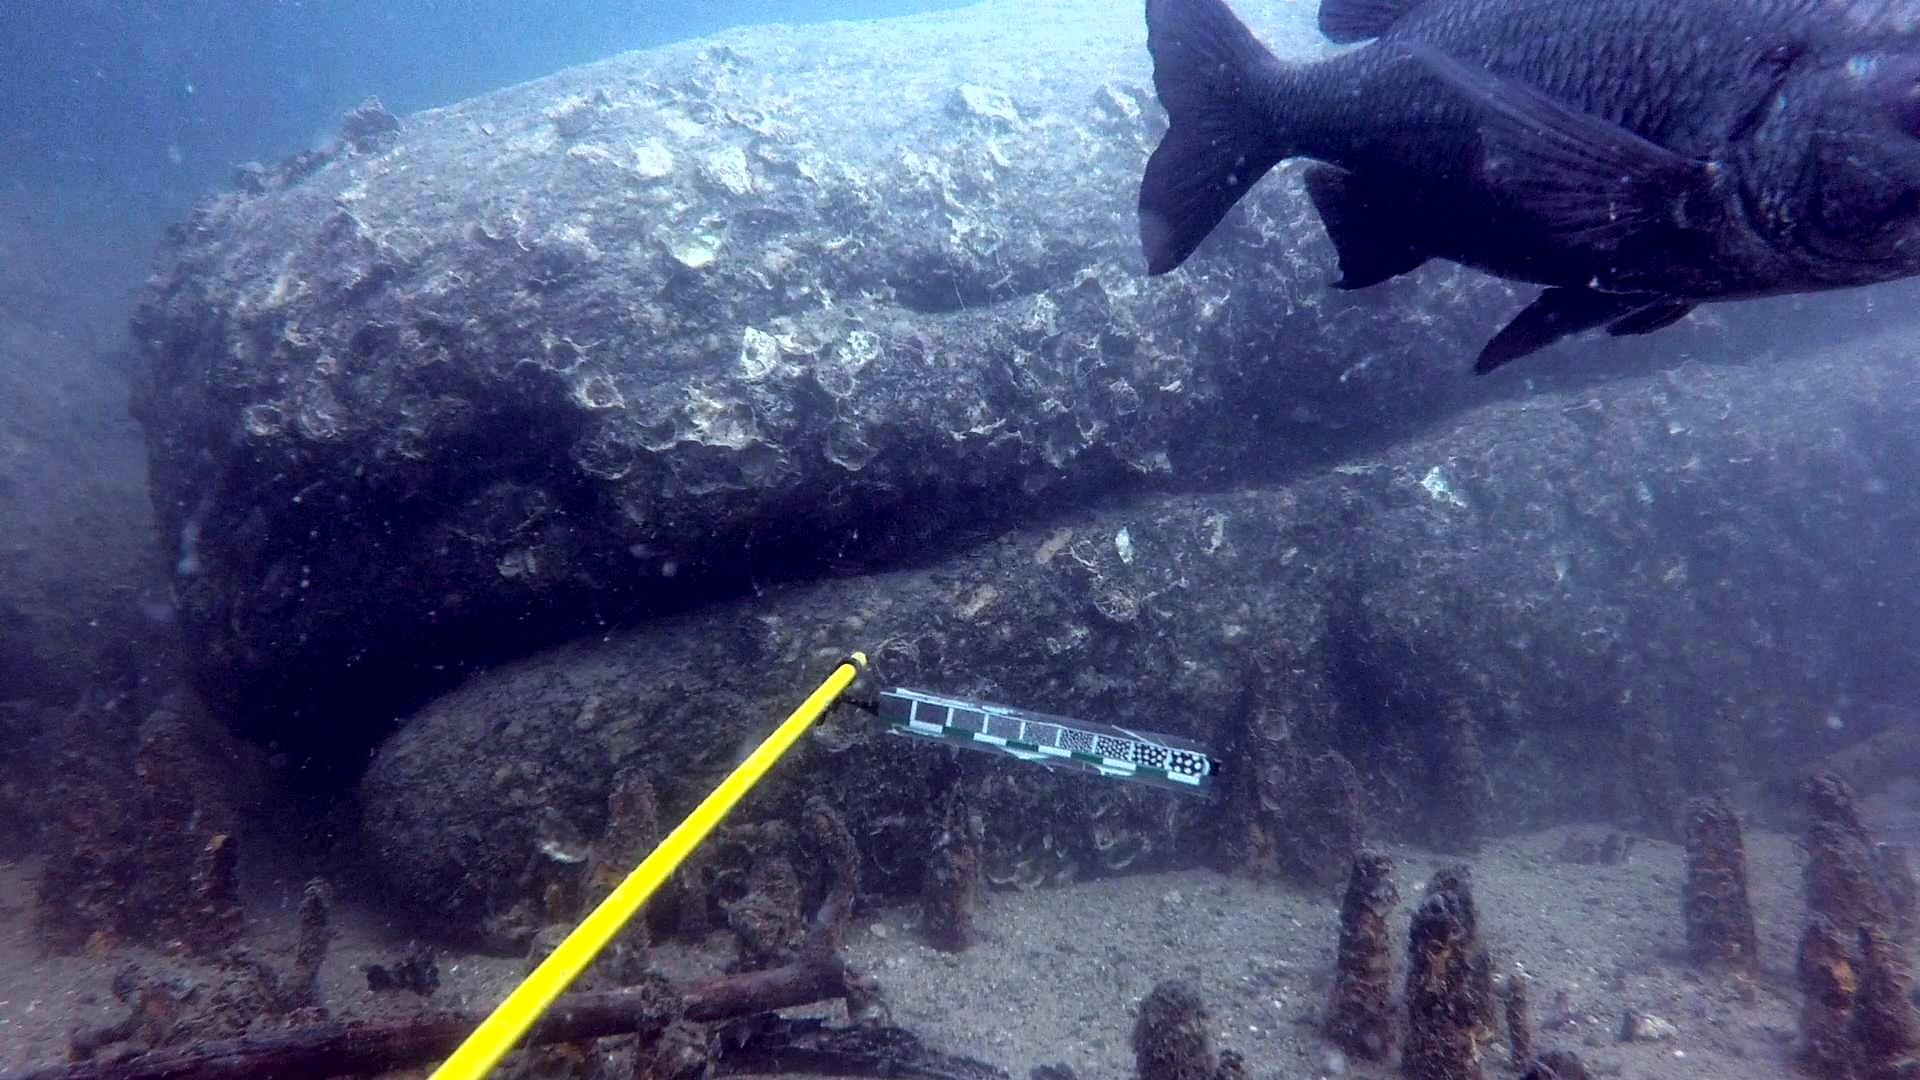acanthopagrus palmaris: (1100, 0, 1918, 386)
